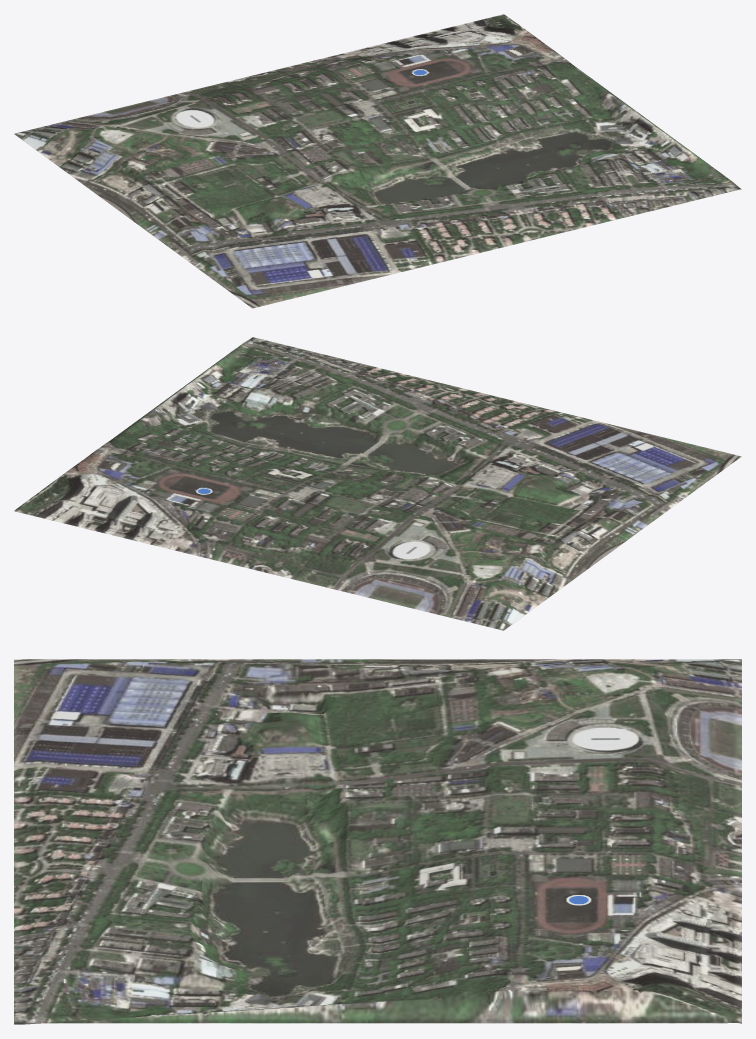
File: dixing.gltf
3 views of the same model, one above another, from view 1: azimuth 30°, elevation 25°; view 2: azimuth 150°, elevation 25°; view 3: azimuth 270°, elevation 25° (orthographic). The views are drawn at different scales.
Visible parts, largest first — view 1: CityEngineTerrainMaterial; view 2: CityEngineTerrainMaterial; view 3: CityEngineTerrainMaterial.
Part boxes in pixels (bbox=[...]): CityEngineTerrainMaterial: bbox=[14, 14, 741, 308]; CityEngineTerrainMaterial: bbox=[14, 337, 741, 630]; CityEngineTerrainMaterial: bbox=[14, 659, 741, 1024].
Bounding box in the file's own units: 1195 × 42.68 × 1008.
Materials: 1 (1 with a texture image).
